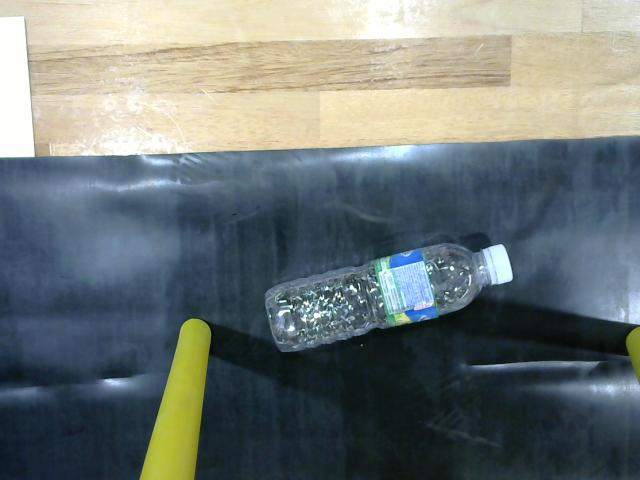bottle: (261, 234, 526, 361)
